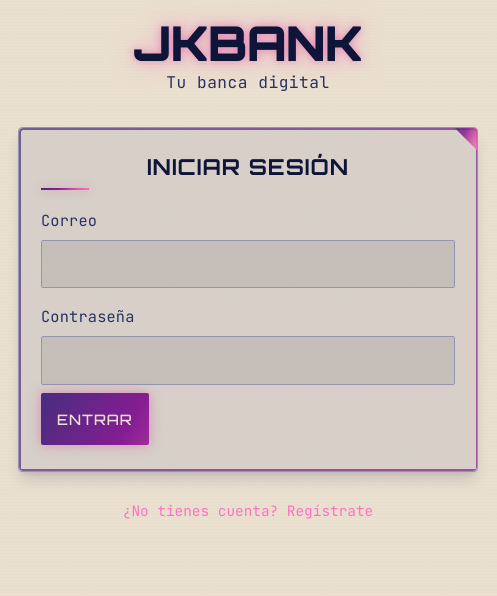
Test: AuthForm › renderiza un mensaje de error legible cuando el servicio rechaza las credenciales
Type "usuario@correo.cl" into the field labelled "Correo" at x=248, y=264, box [41,240,455,288]
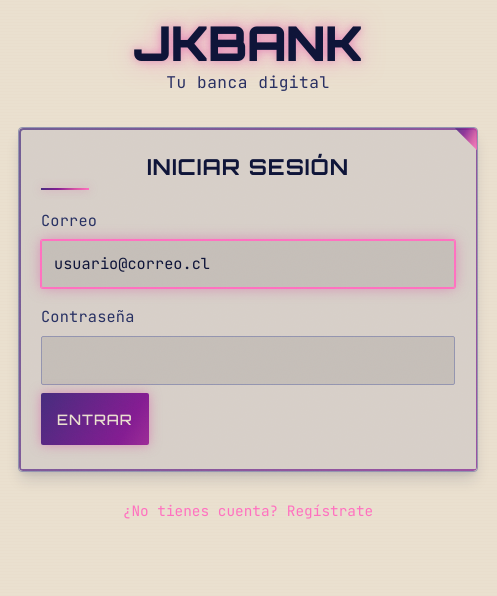
Type "clave123" into the password field labelled "Contraseña" at x=248, y=360, box [41,336,455,384]
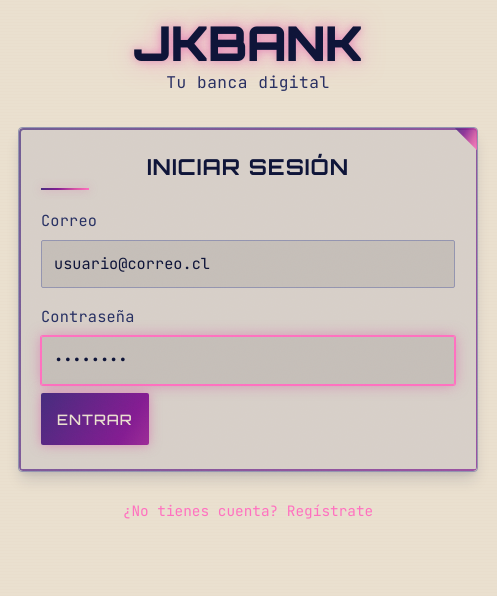
Click the button "Entrar" at x=95, y=419, box [41,392,149,445]
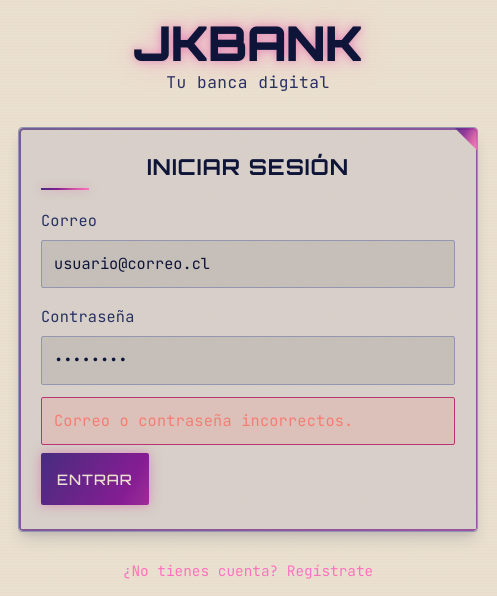
Result: the text "Correo o contraseña incorrectos." is shown at [41,396,455,445]
